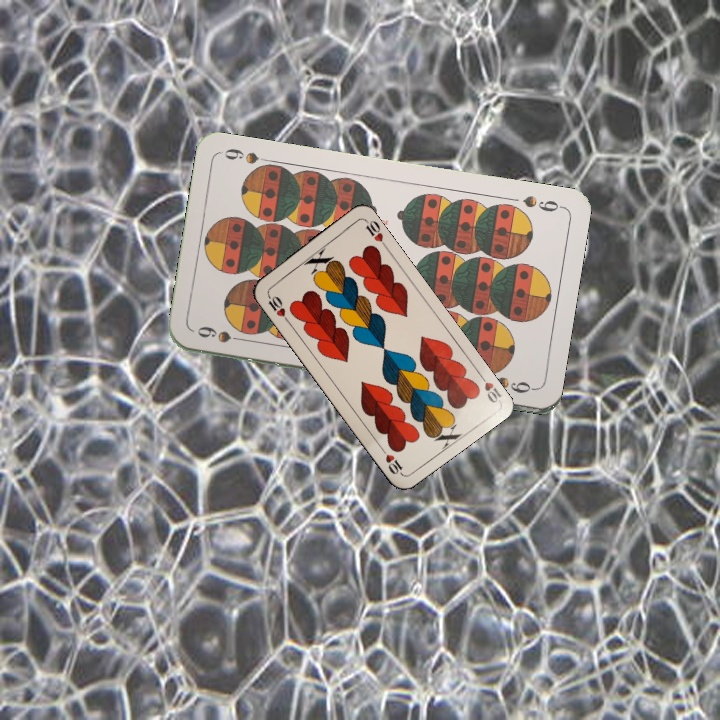H10: (474, 368, 504, 406), (263, 289, 291, 325)
S9: (193, 324, 250, 345), (518, 191, 565, 215)
